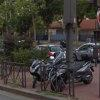Motorcycle: (24, 42, 100, 98)
